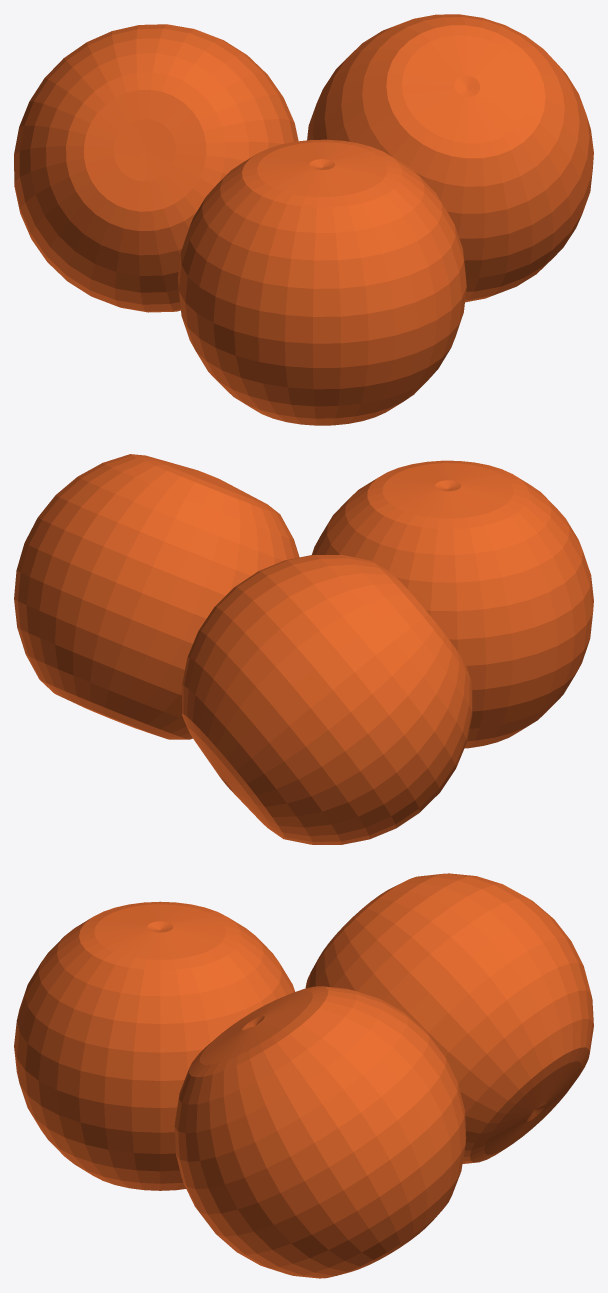
The model's file is Laranja.fbx.
3 renders of one model, top to bottom at view 1: azimuth 30°, elevation 25°; view 2: azimuth 150°, elevation 25°; view 3: azimuth 270°, elevation 25°, orthographic.
Parts seen in each view (by area): view 1: Laranja1, Laranja3, Laranja2; view 2: Laranja3, Laranja2, Laranja1; view 3: Laranja2, Laranja1, Laranja3.
Boxes of the visible parts, x1,y1,x2,y2 form: Laranja1: [178, 139, 466, 425]; Laranja3: [14, 24, 298, 312]; Laranja2: [307, 14, 593, 302]; Laranja3: [182, 555, 472, 844]; Laranja2: [14, 454, 299, 739]; Laranja1: [312, 460, 593, 748]; Laranja2: [174, 986, 466, 1278]; Laranja1: [14, 901, 294, 1190]; Laranja3: [305, 873, 593, 1163].
Size of the model in its own units: 382 by 201 by 397.
